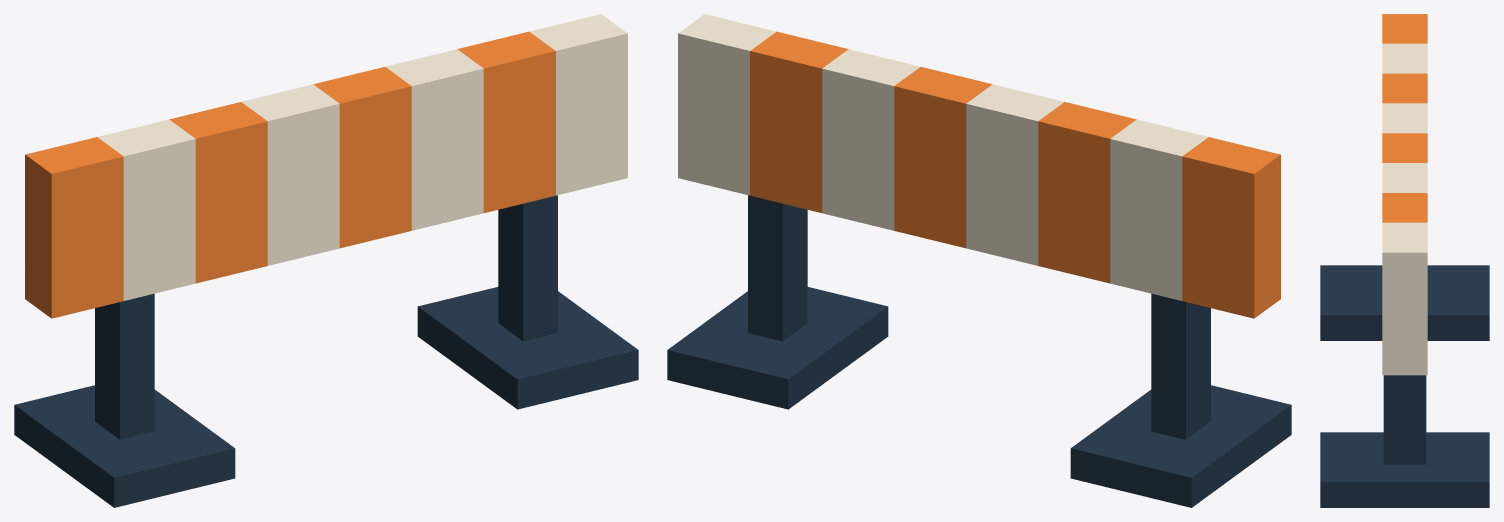
The model's file is 23_striped_barrier.obj.
The picture shows the model from 3 angles, left to right: view 1: azimuth 30°, elevation 25°; view 2: azimuth 150°, elevation 25°; view 3: azimuth 270°, elevation 25°; orthographic projection. The views are drawn at different scales.
Visible parts, largest first — view 1: part_4, part_1, part_3, part_9, part_6, part_7, part_10, part_5, part_8, part_11, part_0, part_2; view 2: part_4, part_1, part_3, part_9, part_6, part_7, part_10, part_5, part_8, part_11, part_0, part_2; view 3: part_3, part_1, part_11, part_2, part_5, part_6, part_7, part_4, part_8, part_9, part_10.
Boxes of the visible parts, left/top/right/bottom form: part_4: left=25, top=137, right=123, bottom=318; part_1: left=14, top=385, right=235, bottom=507; part_3: left=417, top=287, right=638, bottom=409; part_9: left=385, top=49, right=483, bottom=230; part_6: left=169, top=102, right=267, bottom=283; part_7: left=241, top=84, right=339, bottom=265; part_10: left=457, top=31, right=555, bottom=212; part_5: left=97, top=119, right=195, bottom=300; part_8: left=313, top=67, right=411, bottom=248; part_11: left=529, top=14, right=627, bottom=195; part_0: left=95, top=293, right=154, bottom=439; part_2: left=498, top=195, right=557, bottom=341; part_4: left=1182, top=137, right=1280, bottom=318; part_1: left=1070, top=385, right=1291, bottom=507; part_3: left=667, top=287, right=888, bottom=409; part_9: left=822, top=49, right=920, bottom=230; part_6: left=1038, top=102, right=1136, bottom=283; part_7: left=966, top=84, right=1064, bottom=265; part_10: left=750, top=31, right=848, bottom=212; part_5: left=1110, top=119, right=1208, bottom=300; part_8: left=894, top=67, right=992, bottom=248; part_11: left=678, top=14, right=776, bottom=195; part_0: left=1151, top=293, right=1210, bottom=439; part_2: left=748, top=195, right=807, bottom=341; part_3: left=1320, top=432, right=1489, bottom=507; part_1: left=1320, top=265, right=1489, bottom=340; part_11: left=1382, top=222, right=1427, bottom=375; part_2: left=1383, top=375, right=1426, bottom=464; part_5: left=1382, top=43, right=1427, bottom=73; part_6: left=1382, top=73, right=1427, bottom=103; part_7: left=1382, top=103, right=1427, bottom=133; part_4: left=1382, top=14, right=1427, bottom=43; part_8: left=1382, top=133, right=1427, bottom=162; part_9: left=1382, top=163, right=1427, bottom=192; part_10: left=1382, top=193, right=1427, bottom=222.
Bounding box in the file's own units: 2 × 1.04 × 0.6.
